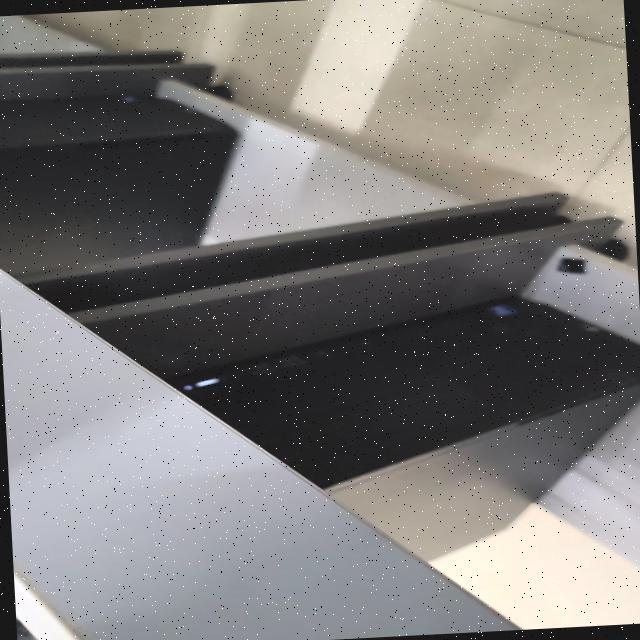Cpu: (178, 298, 640, 561), (0, 96, 236, 273)
Keyboard: (15, 618, 35, 640)
